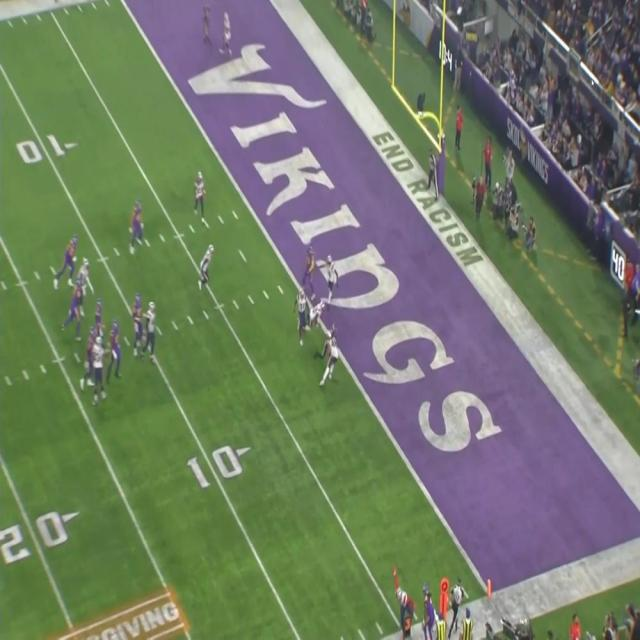db: (323, 326, 339, 382), (195, 168, 209, 219), (198, 244, 215, 286), (326, 253, 341, 299), (309, 302, 326, 321), (223, 12, 230, 49)
lb: (298, 288, 310, 342)
qb: (70, 278, 82, 334)
skill: (202, 4, 211, 44), (305, 246, 313, 288), (322, 322, 338, 342)
